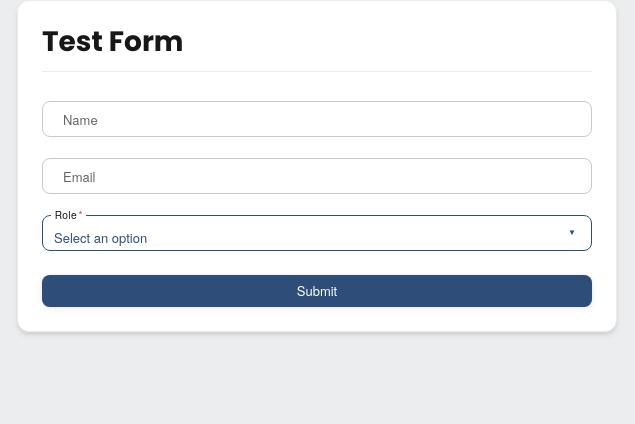
it: Form Component › Validation › shows required field errors on empty submission
Click the button "Submit". click: (317, 291)
box: x1=42 y1=275 x2=592 y2=307
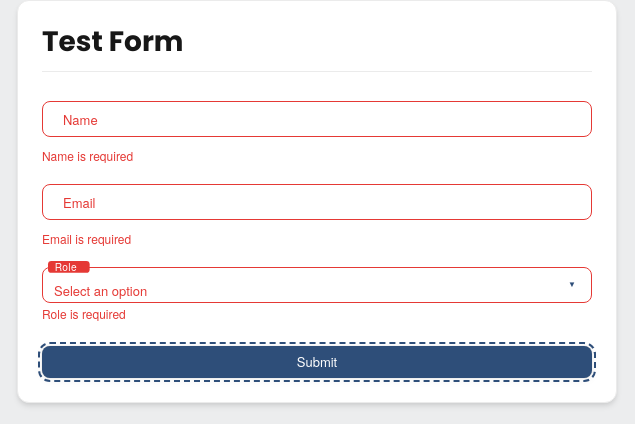
Expected: the text "Name is required" is shown, x1=42 y1=147 x2=133 y2=164
Expected: the text "Email is required" is shown, x1=42 y1=230 x2=131 y2=247
Expected: the text "Role is required" is shown, x1=42 y1=305 x2=126 y2=322
